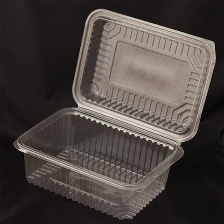plastic_box: (8, 4, 220, 223)
